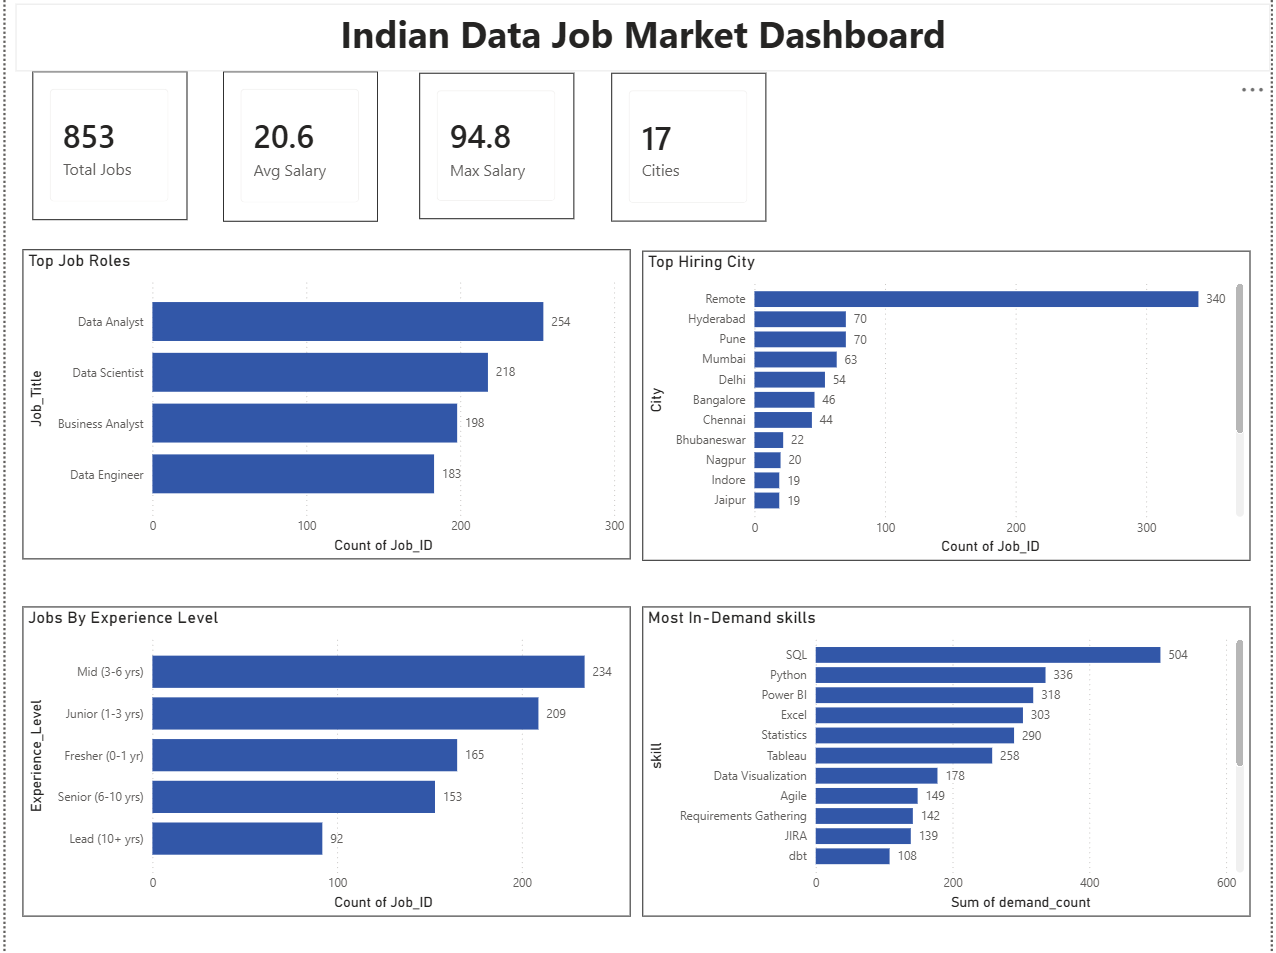

The dashboard page shown, as its layout file describes it:
{"tool":"powerbi","page":{"name":"Job Market Overview","canvas":[1280,1000],"ordinal":0},"visuals":[{"type":"cardVisual","fields":{"Data":["data_roles.Max Salary"]},"box":[418.3,76.7,156.7,148.3],"z":0},{"type":"cardVisual","fields":{"Data":["data_roles.Avg Salary"]},"box":[220,75,156.7,151.7],"z":1000},{"type":"cardVisual","fields":{"Data":["data_roles.Total Jobs"]},"box":[26.7,75,156.7,150],"z":2000},{"type":"cardVisual","fields":{"Data":["data_roles.Cities"]},"box":[613.3,76.7,156.7,150],"z":3000},{"type":"clusteredBarChart","title":"Top Job Roles","fields":{"Category":["data_roles.Job_Title"],"Y":["CountNonNull(data_roles.Job_ID)"]},"box":[16.7,255,615,313.3],"z":4000},{"type":"clusteredBarChart","title":"Top Hiring City","fields":{"Category":["data_roles.City"],"Y":["CountNonNull(data_roles.Job_ID)"]},"box":[645,256.7,615,313.3],"z":5000},{"type":"clusteredBarChart","title":"Most In-Demand skills","fields":{"Category":["skill_analysis.skill"],"Y":["Sum(skill_analysis.demand_count)"]},"box":[645,616.7,615,313.3],"z":6000},{"type":"clusteredBarChart","title":"Jobs By Experience Level","fields":{"Category":["data_roles.Experience_Level"],"Y":["CountNonNull(data_roles.Job_ID)"]},"box":[16.7,616.7,615,313.3],"z":8000},{"type":"textbox","box":[10,6.7,1270,68.3],"z":9000}]}

Visuals, with their boxes on the page's 1280x1000 design canvas (x1, y1, x2, y2). These are canvas units, not pixel positions in the 1276x953 screenshot, which may show the page scaled, cropped or inside an application window:
cardVisual - data_roles.Max Salary: <bbox>418, 77, 575, 225</bbox>
cardVisual - data_roles.Avg Salary: <bbox>220, 75, 377, 227</bbox>
cardVisual - data_roles.Total Jobs: <bbox>27, 75, 183, 225</bbox>
cardVisual - data_roles.Cities: <bbox>613, 77, 770, 227</bbox>
"Top Job Roles" clusteredBarChart: <bbox>17, 255, 632, 568</bbox>
"Top Hiring City" clusteredBarChart: <bbox>645, 257, 1260, 570</bbox>
"Most In-Demand skills" clusteredBarChart: <bbox>645, 617, 1260, 930</bbox>
"Jobs By Experience Level" clusteredBarChart: <bbox>17, 617, 632, 930</bbox>
textbox: <bbox>10, 7, 1280, 75</bbox>
